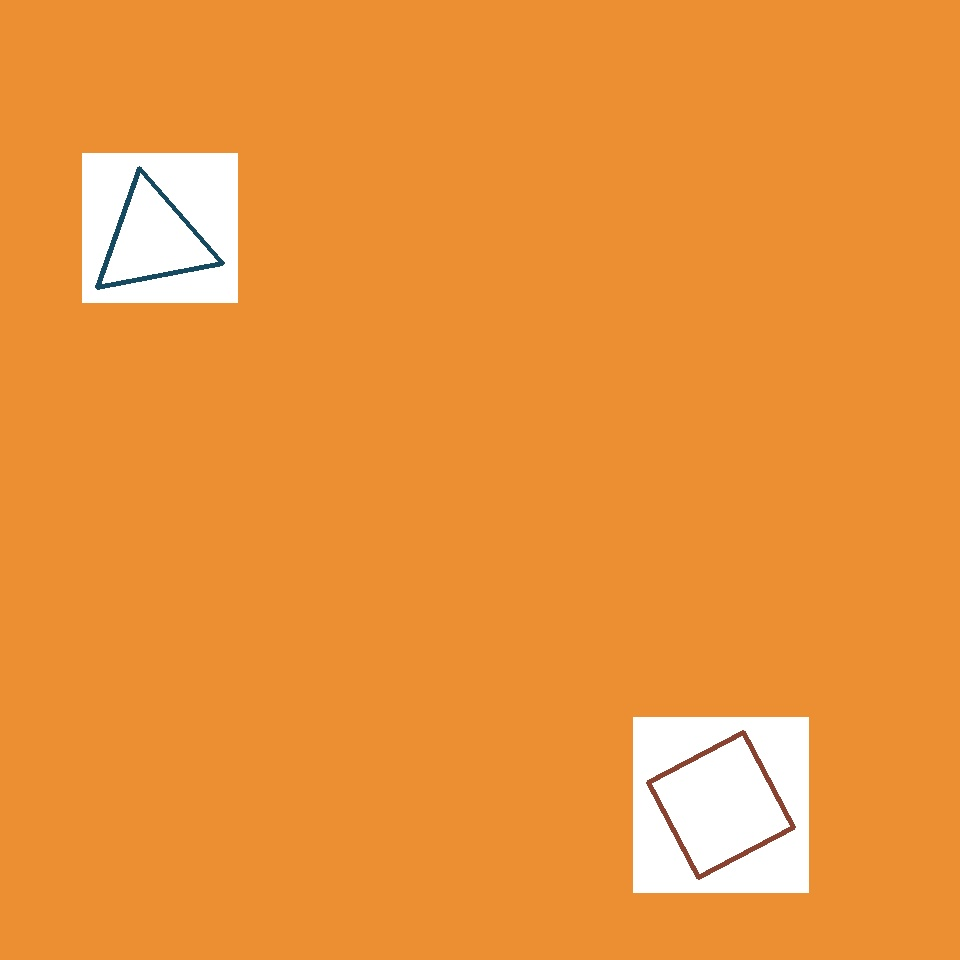circle: (112, 448, 342, 689), (230, 35, 409, 225), (415, 443, 601, 615), (90, 180, 216, 300)
square: (150, 47, 380, 278), (648, 732, 794, 878)
